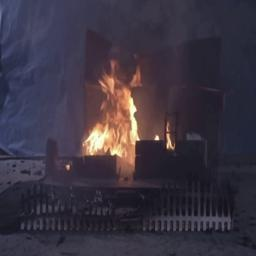fire: (86, 60, 149, 164)
